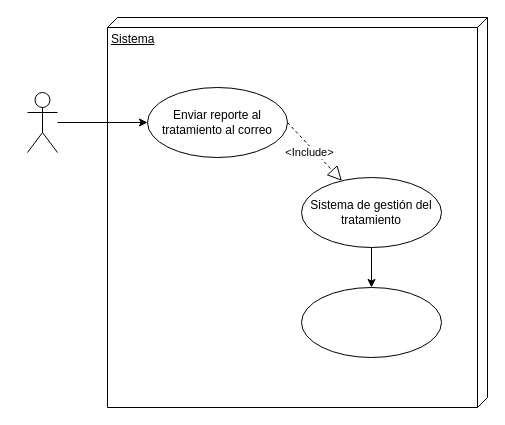
Some shapes in this 505 by 425 pixel diagram are drawn without their labels. Here are the shapes that lost their labels. From the top down, the box of each, then its label:
(26, 92, 58, 152): ´Paciente
(300, 286, 442, 358): Correo electronico
